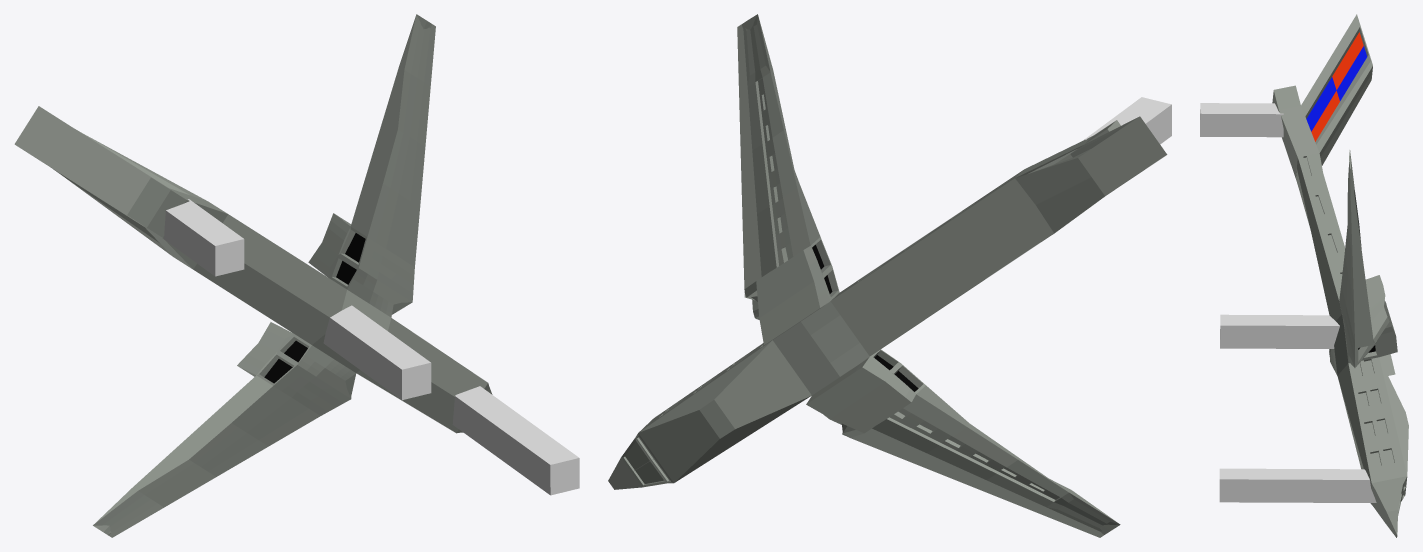
The model's file is ECIA_plane_pedestal_2.fbx.
3 views of the same model, side by side, from view 1: azimuth 30°, elevation 25°; view 2: azimuth 150°, elevation 25°; view 3: azimuth 270°, elevation 25° (orthographic). The views are drawn at different scales.
Parts seen in each view (by area): view 1: ECIA_plane_pedestal_2; view 2: ECIA_plane_pedestal_2; view 3: ECIA_plane_pedestal_2.
Boxes of the visible parts, x1,y1,x2,y2 form: ECIA_plane_pedestal_2: (14,14,579,537); ECIA_plane_pedestal_2: (608,14,1171,537); ECIA_plane_pedestal_2: (1200,14,1408,537).
Bounding box in the file's own units: 528 × 455 × 246.
